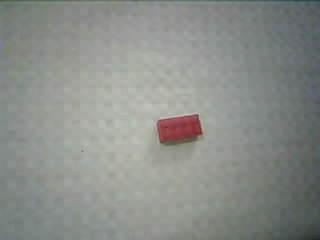lego: (154, 113, 203, 146)
